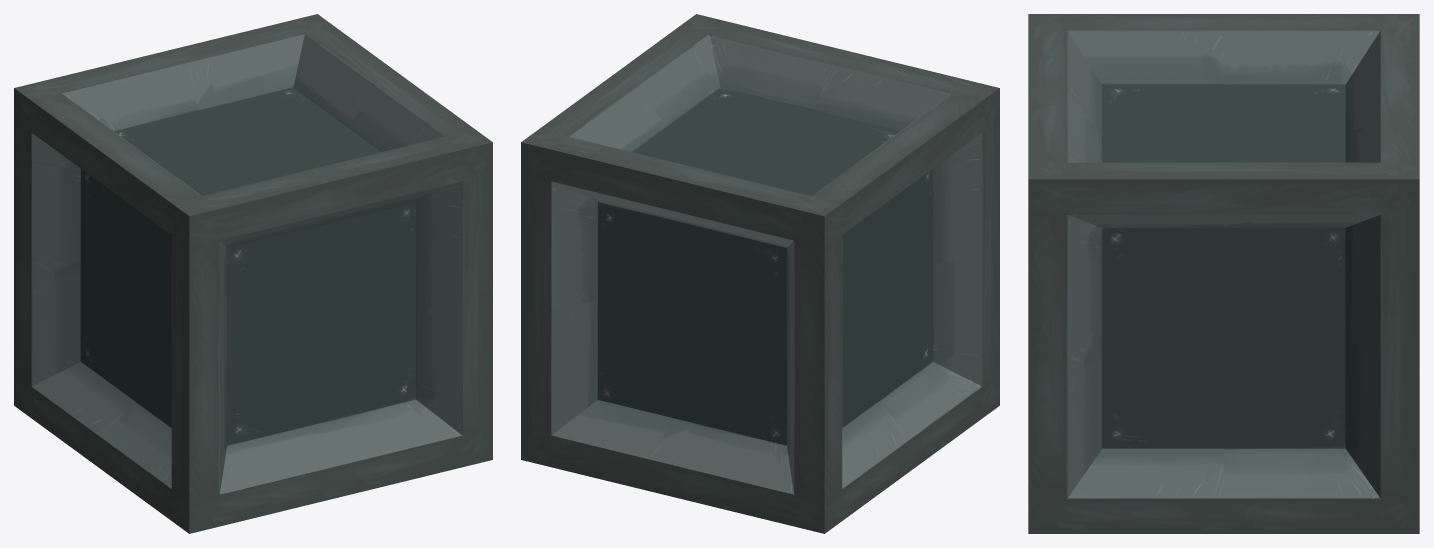
The model's file is Breakable Metal Box.fbx.
3 views of the same model, side by side, from view 1: azimuth 30°, elevation 25°; view 2: azimuth 150°, elevation 25°; view 3: azimuth 270°, elevation 25° (orthographic). The views are drawn at different scales.
Visible parts, largest first — view 1: shard5, shard3, shard1, shard4, shard2; view 2: shard3, shard2, shard4, shard5, shard1; view 3: shard2, shard3, shard5, shard1.
Boxes of the visible parts, x1=… form: shard5: x1=102, y1=85, x2=492, y2=467; shard3: x1=14, y1=21, x2=395, y2=427; shard1: x1=81, y1=204, x2=461, y2=533; shard4: x1=14, y1=247, x2=101, y2=469; shard2: x1=287, y1=14, x2=474, y2=128; shard3: x1=551, y1=85, x2=982, y2=427; shard2: x1=521, y1=27, x2=794, y2=496; shard4: x1=674, y1=225, x2=912, y2=533; shard5: x1=639, y1=14, x2=999, y2=151; shard1: x1=842, y1=88, x2=999, y2=469; shard2: x1=1067, y1=162, x2=1419, y2=533; shard3: x1=1102, y1=14, x2=1419, y2=162; shard5: x1=1028, y1=14, x2=1223, y2=533; shard1: x1=1067, y1=498, x2=1379, y2=533.
Bounding box in the file's own units: 0.01 × 0.01 × 0.01.
